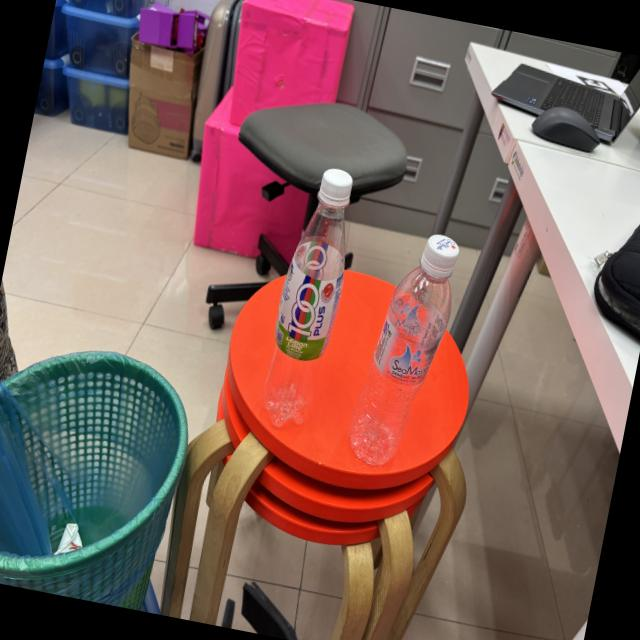dustbin: (0, 313, 211, 615)
plastic_bottle: (246, 154, 374, 448), (337, 212, 473, 482)
